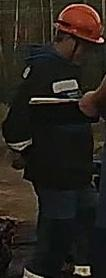helmet: (54, 3, 105, 43)
vest: (19, 47, 96, 190)
